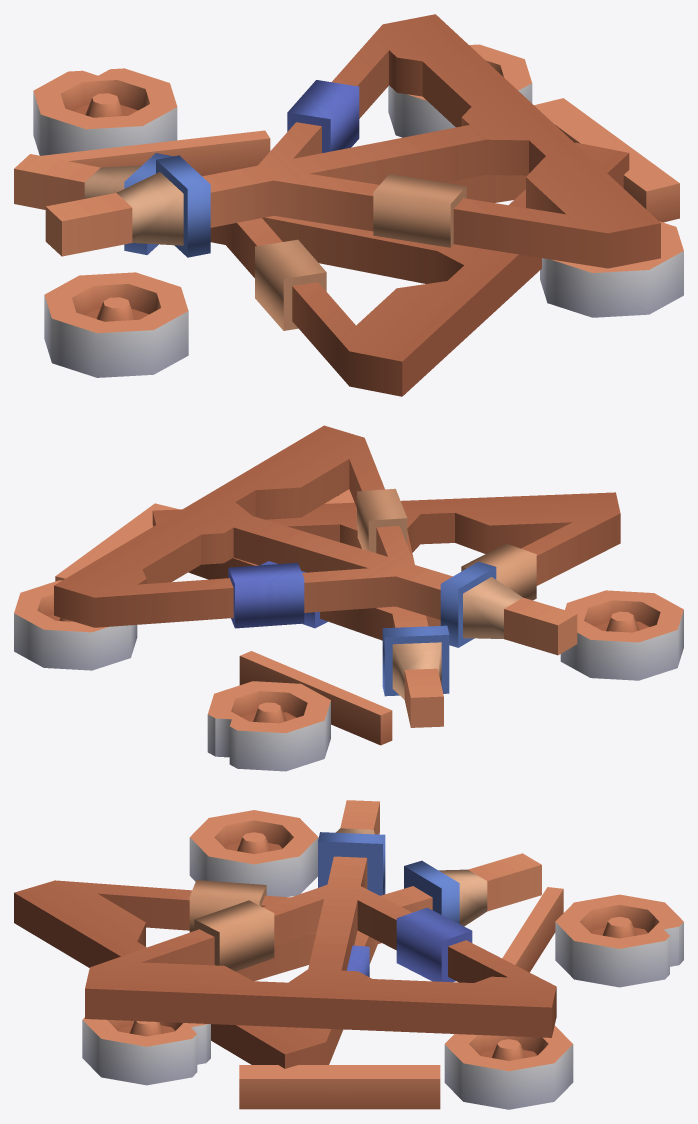
File: siege-trebuchet-demolished.obj
3 renders of one model, top to bottom at view 1: azimuth 30°, elevation 25°; view 2: azimuth 150°, elevation 25°; view 3: azimuth 270°, elevation 25°, orthographic. The views are drawn at different scales.
Visible parts, largest first — view 1: siege-trebuchet-demolished; view 2: siege-trebuchet-demolished; view 3: siege-trebuchet-demolished.
Part boxes in pixels (bbox=[...]): siege-trebuchet-demolished: bbox=[14, 14, 683, 396]; siege-trebuchet-demolished: bbox=[14, 425, 683, 771]; siege-trebuchet-demolished: bbox=[14, 800, 683, 1109].
Size of the model in its own units: 1.93 by 0.3097 by 2.1.
Materials: 1 (1 with a texture image).
